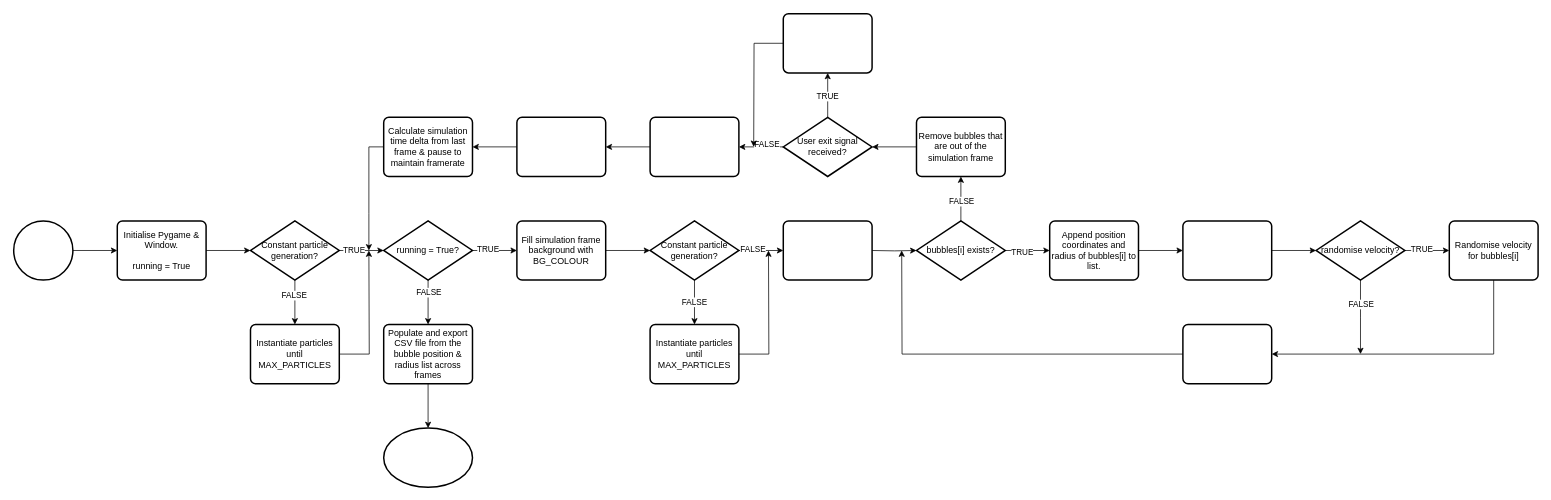
Image size: 1551x500. Some labels were removed from this diagram. Each missing label, with the centre of its shape:
"Export simulation frame capture image" goes at point 561,146.
"i = 0" goes at point 827,250.
"i++" goes at point 1227,353.
"Move then draw bubbles[i]" goes at point 1227,250.
"Pygame quit" goes at point 428,457.
"Render simulation window output" goes at point 694,146.
"running = False" goes at point 827,43.
"Start" goes at point 43,250.
